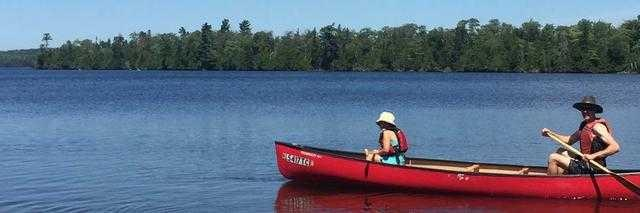kayak: (272, 139, 639, 208)
